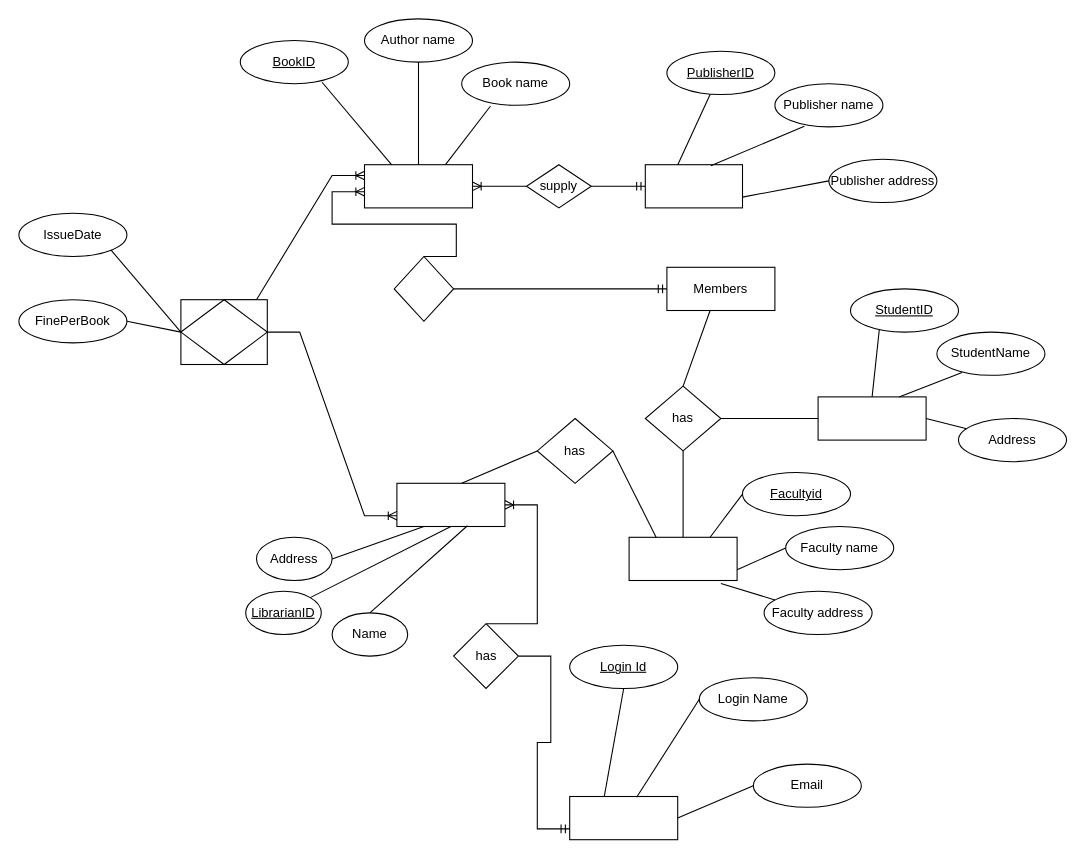
Image size: 1085x859. Some labels were removed from this diagram. The centre of each missing label's shape, as x and y in pixels:
"Books" goes at point 418,186.
"Faculty" goes at point 682,558.
"issued by" goes at point 423,288.
"Librarian" goes at point 450,504.
"Login" goes at point 623,817.
"Manages" goes at point 223,331.
"Publisher" goes at point 693,186.
"Student" goes at point 871,418.
